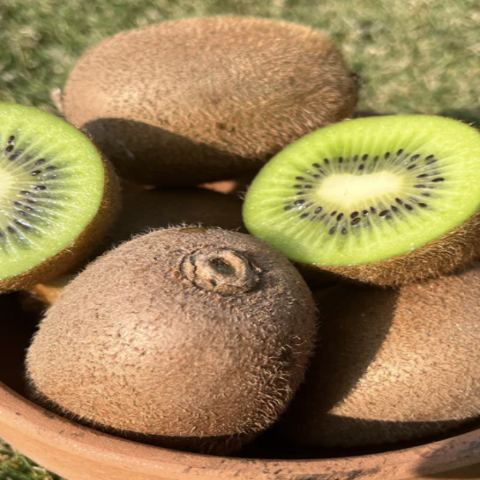kiwi: (13, 189, 335, 461), (31, 11, 366, 192)
